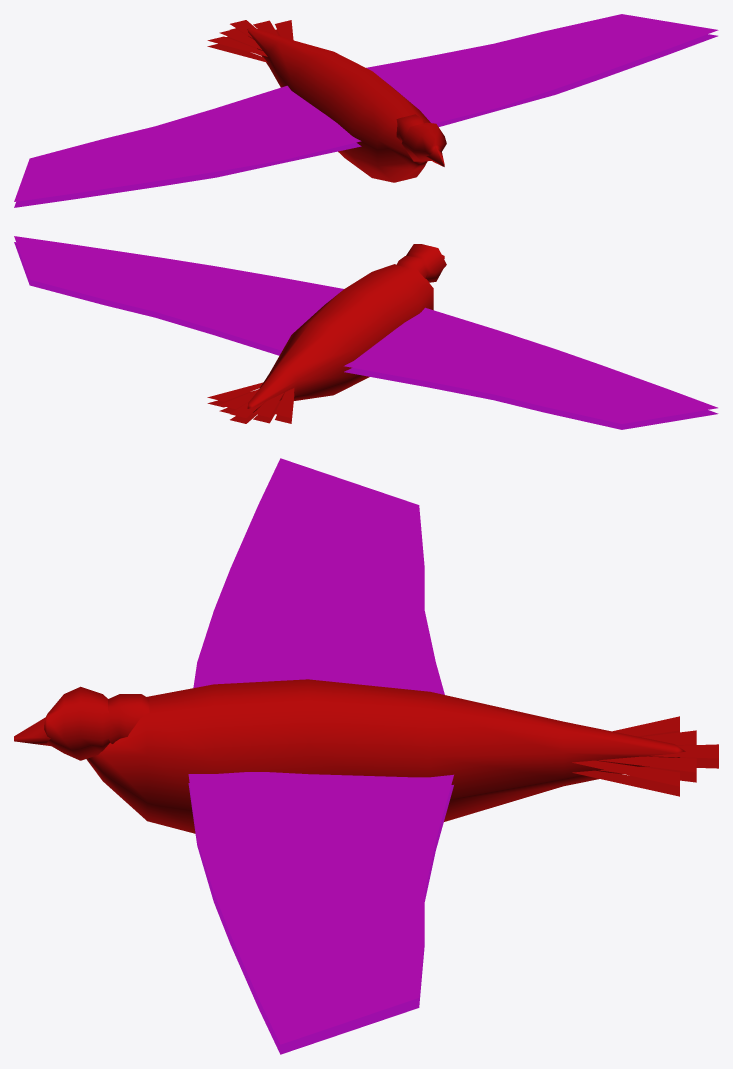
The model's file is hoodedcrow.glb.
3 renders of one model, top to bottom at view 1: azimuth 30°, elevation 25°; view 2: azimuth 150°, elevation 25°; view 3: azimuth 270°, elevation 25°, orthographic. The views are drawn at different scales.
Visible parts, largest first — view 1: bird; view 2: bird; view 3: bird.
Part boxes in pixels (box(x1,y1,x2,y2)): bird: box(14, 14, 718, 207); bird: box(14, 236, 718, 429); bird: box(14, 458, 718, 1054).
Size of the model in its own units: 0.9766 by 0.1055 by 0.4961.
